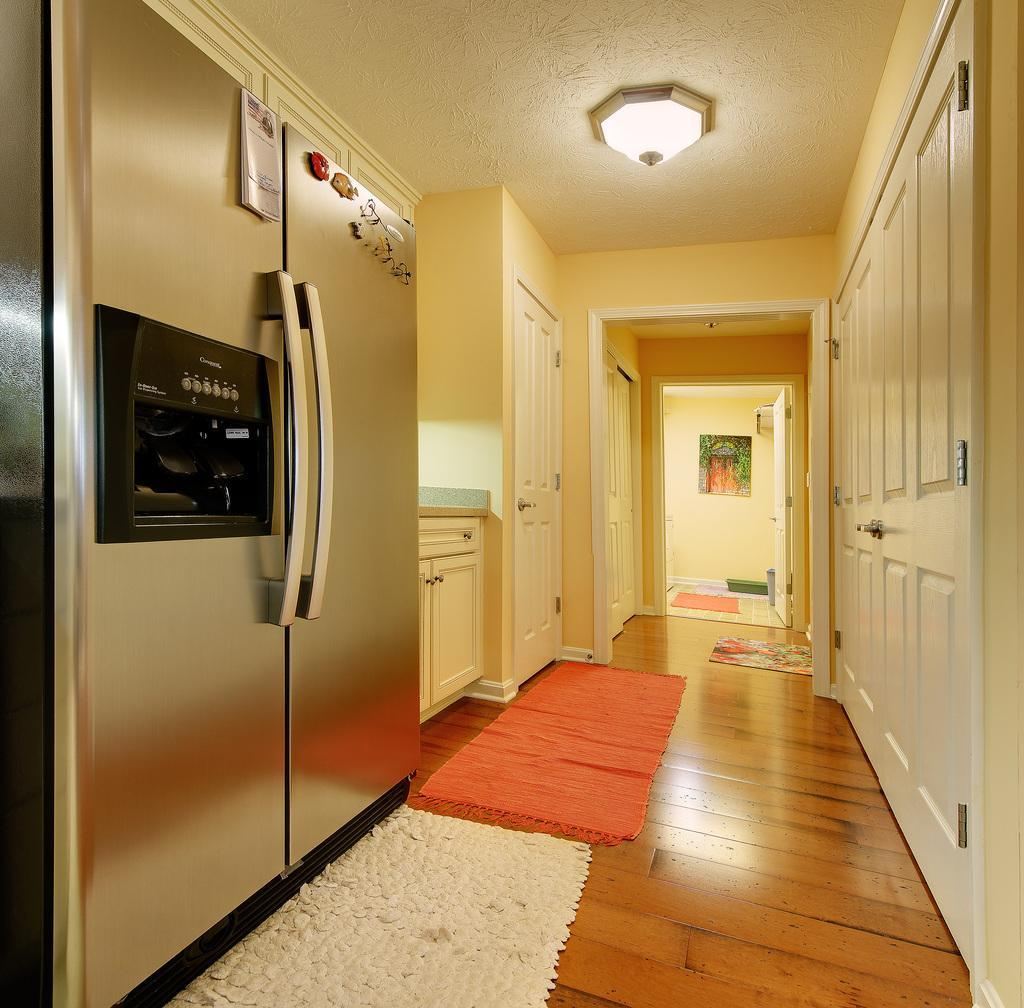door: (874, 200, 962, 838), (838, 308, 880, 717), (519, 303, 555, 660), (770, 410, 790, 613)
handle: (254, 276, 308, 621), (293, 283, 335, 613), (858, 520, 882, 548), (520, 494, 538, 516), (434, 570, 444, 585)
